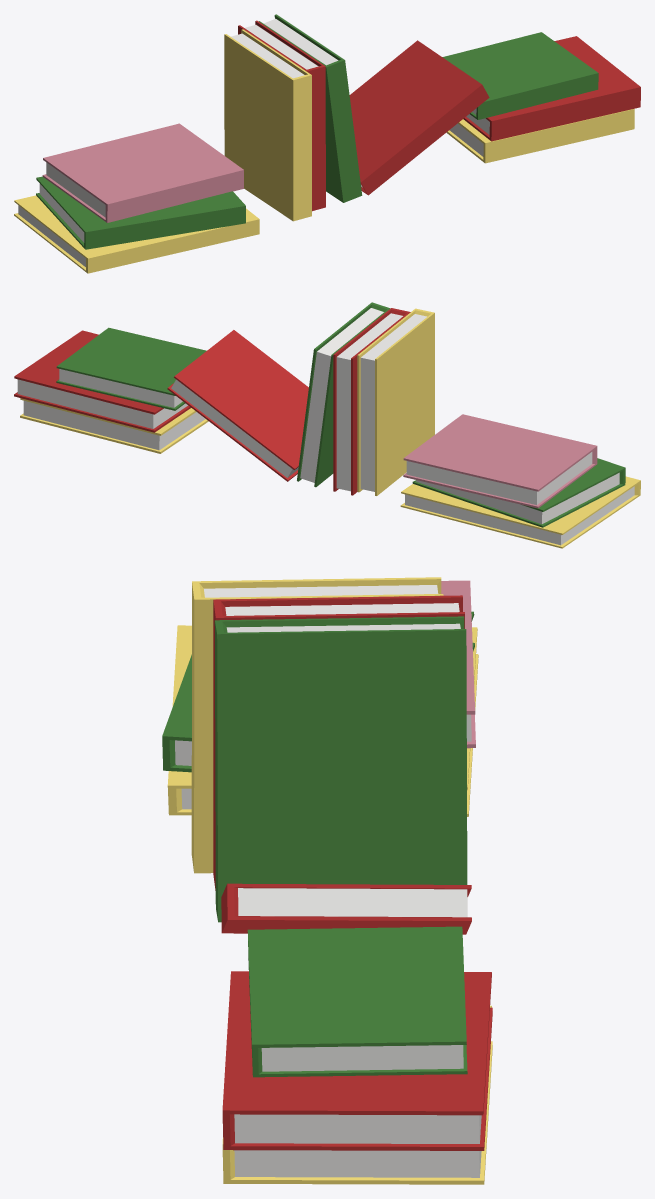
Rendered from Books_4.fbx.
3 views of the same model, one above another, from view 1: azimuth 30°, elevation 25°; view 2: azimuth 150°, elevation 25°; view 3: azimuth 270°, elevation 25° (orthographic). The views are drawn at different scales.
Parts seen in each view (by area): view 1: Books_4; view 2: Books_4; view 3: Books_4.
Part boxes in pixels (x1=…): Books_4: x1=14, y1=14, x2=640, y2=273; Books_4: x1=14, y1=302, x2=640, y2=548; Books_4: x1=162, y1=577, x2=492, y2=1184.
Bounding box in the file's own units: 121 × 31.58 × 29.4.
